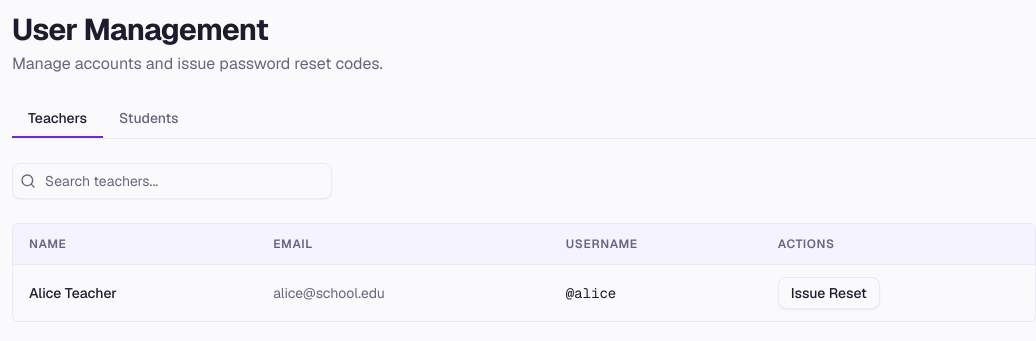
Test case: StaffManagementView › switches to Students tab and shows student data
Expected: the text "Alice Teacher" is shown, [13,264,257,321]
Click the button "Students": [149, 119] box [103,100,195,138]
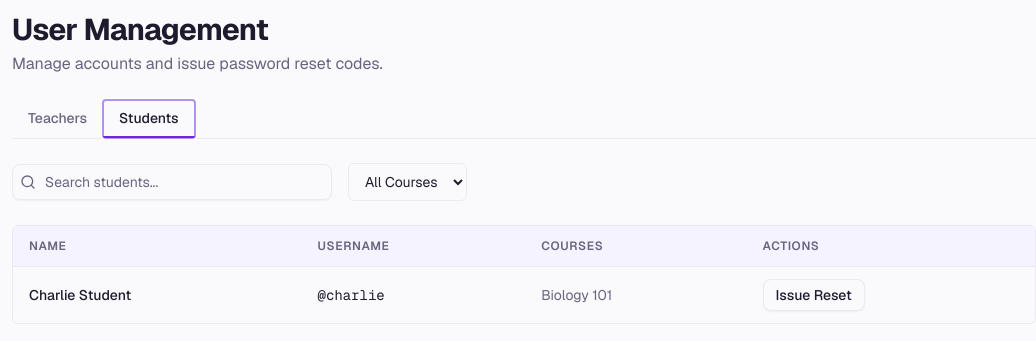
Result: the text "Charlie Student" is shown at [13,266,302,323]
Result: the text "@charlie" is shown at [302,266,525,323]
